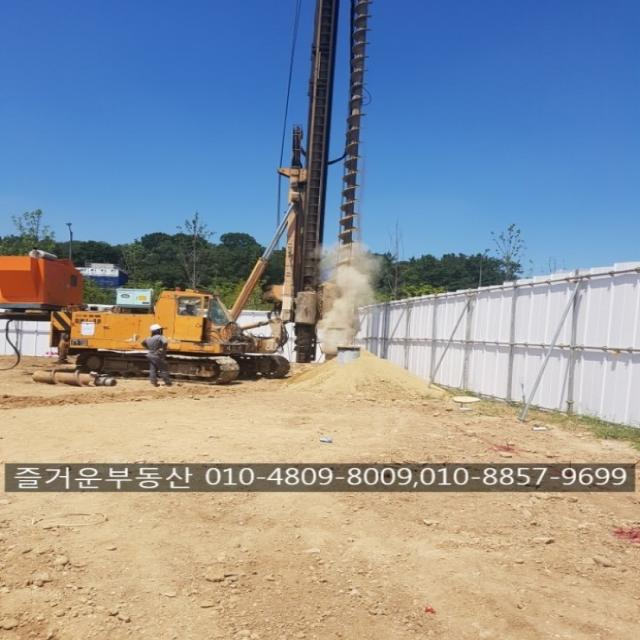pile: (335, 0, 373, 296)
